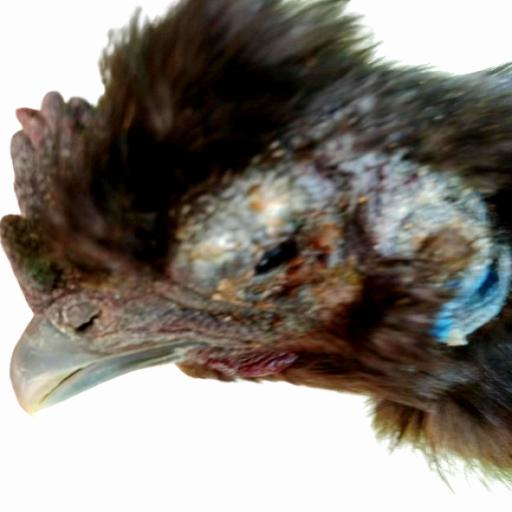disease: (137, 137, 503, 369)
